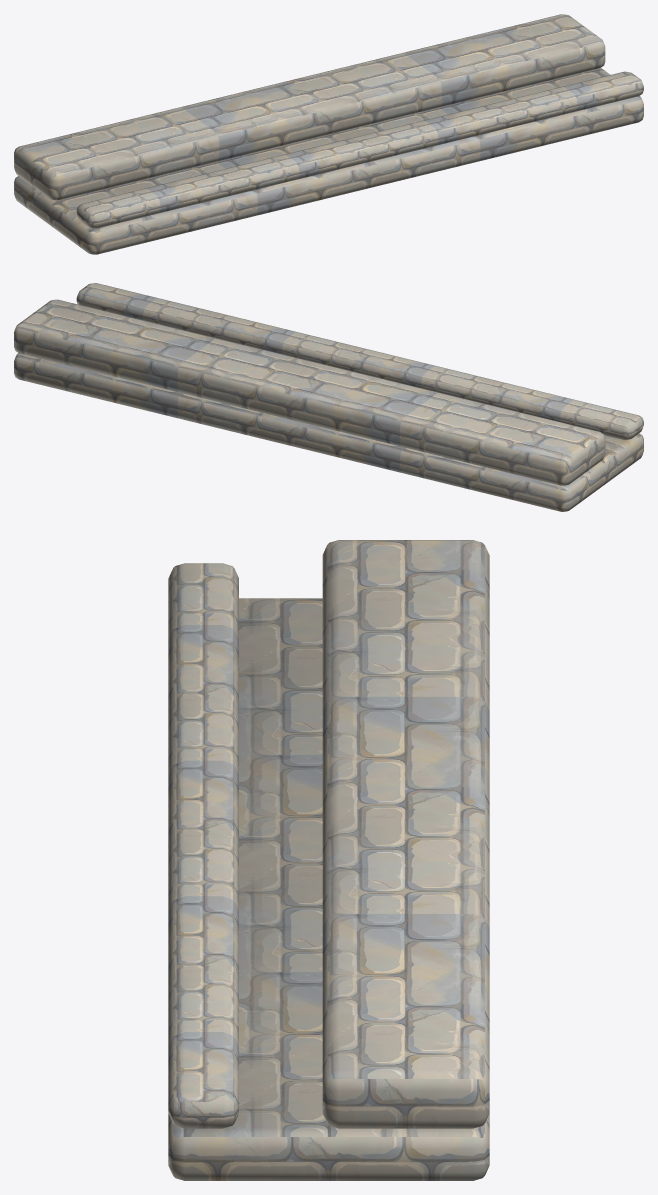
File: plaza_step.gltf
3 renders of one model, top to bottom at view 1: azimuth 30°, elevation 25°; view 2: azimuth 150°, elevation 25°; view 3: azimuth 270°, elevation 25°, orthographic. The views are drawn at different scales.
Visible parts, largest first — view 1: plaza_step; view 2: plaza_step; view 3: plaza_step.
Part boxes in pixels (<box>): plaza_step: <box>14,14,643,254</box>; plaza_step: <box>14,283,643,511</box>; plaza_step: <box>168,540,489,1180</box>.
Size of the model in its own units: 4 by 0.38 by 1.
Materials: 1 (1 with a texture image).
